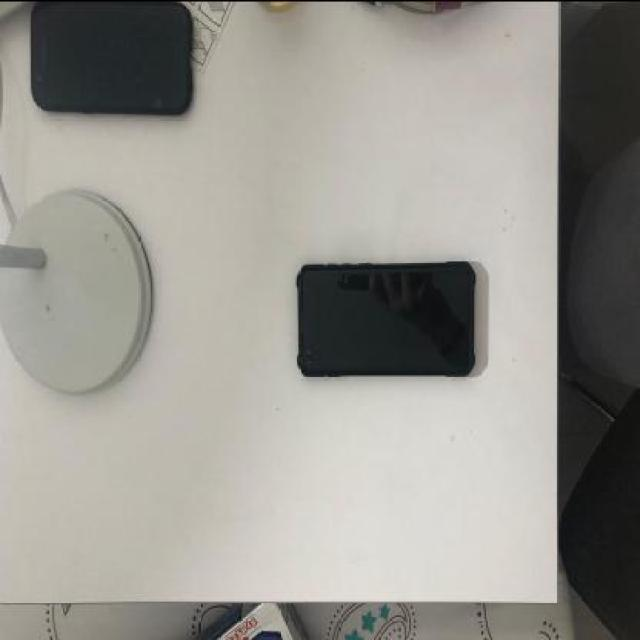phone: (297, 257, 475, 377), (32, 0, 192, 114)
